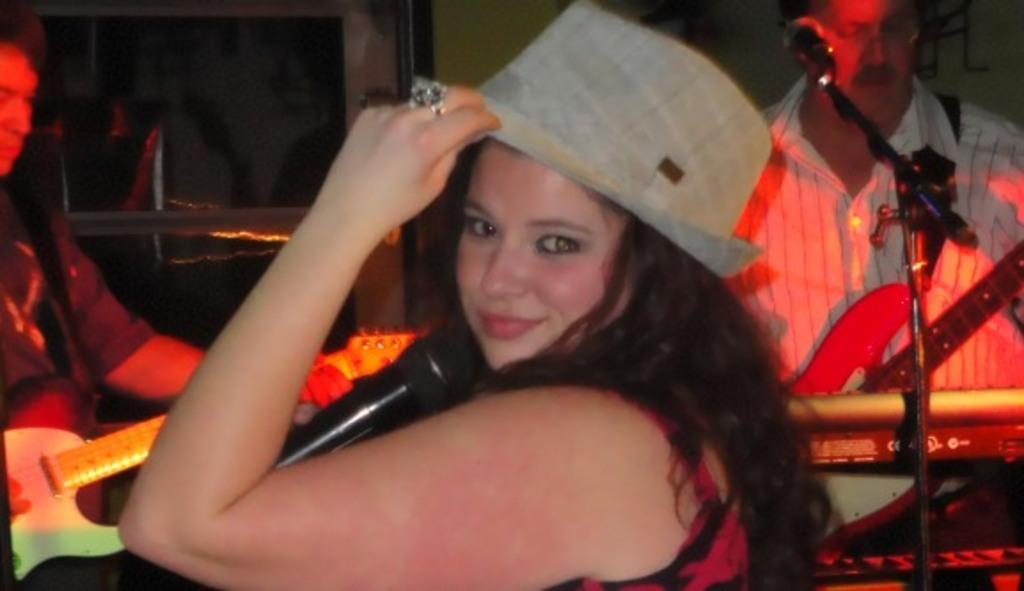Hat: (470, 0, 775, 275)
